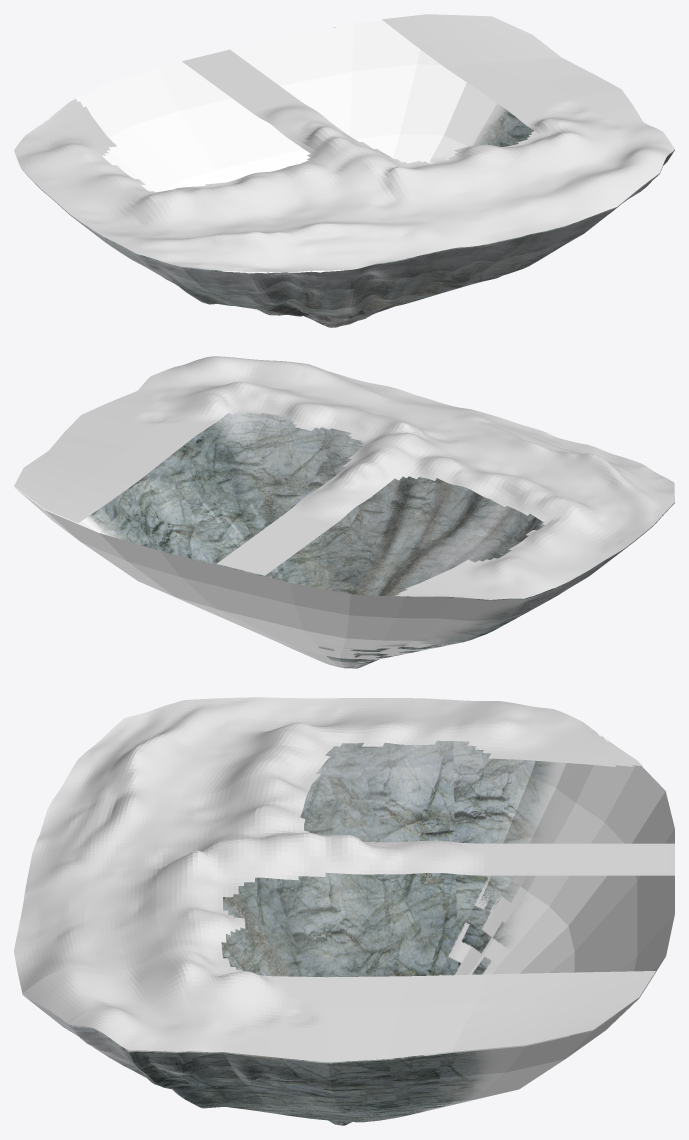
The model's file is island_mod.fbx.
3 views of the same model, one above another, from view 1: azimuth 30°, elevation 25°; view 2: azimuth 150°, elevation 25°; view 3: azimuth 270°, elevation 25° (orthographic). The views are drawn at different scales.
Visible parts, largest first — view 1: snow, rock; view 2: snow, rock; view 3: snow, rock.
Part boxes in pixels (x1,y1,x2,y2): snow: (14,14,674,272); rock: (14,20,674,327); snow: (14,356,674,599); rock: (14,412,674,668); snow: (14,697,674,1062); rock: (14,740,674,1125).
Size of the model in its own units: 1797 by 625 by 1396.
